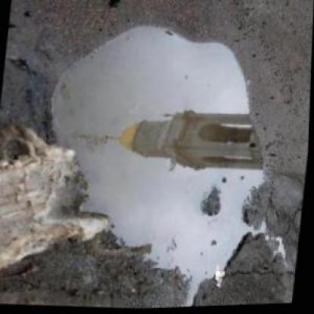Hueco: (32, 16, 288, 311)
